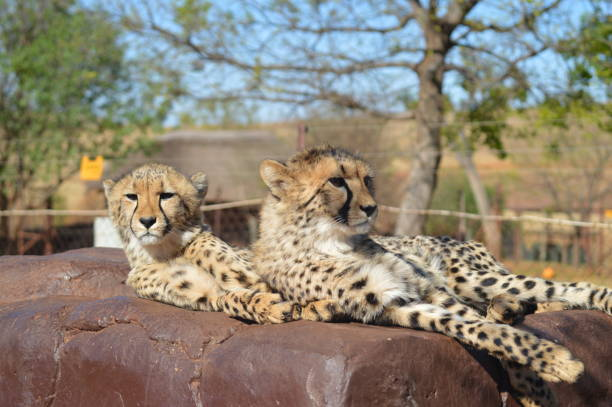cheetah: (254, 141, 392, 261)
